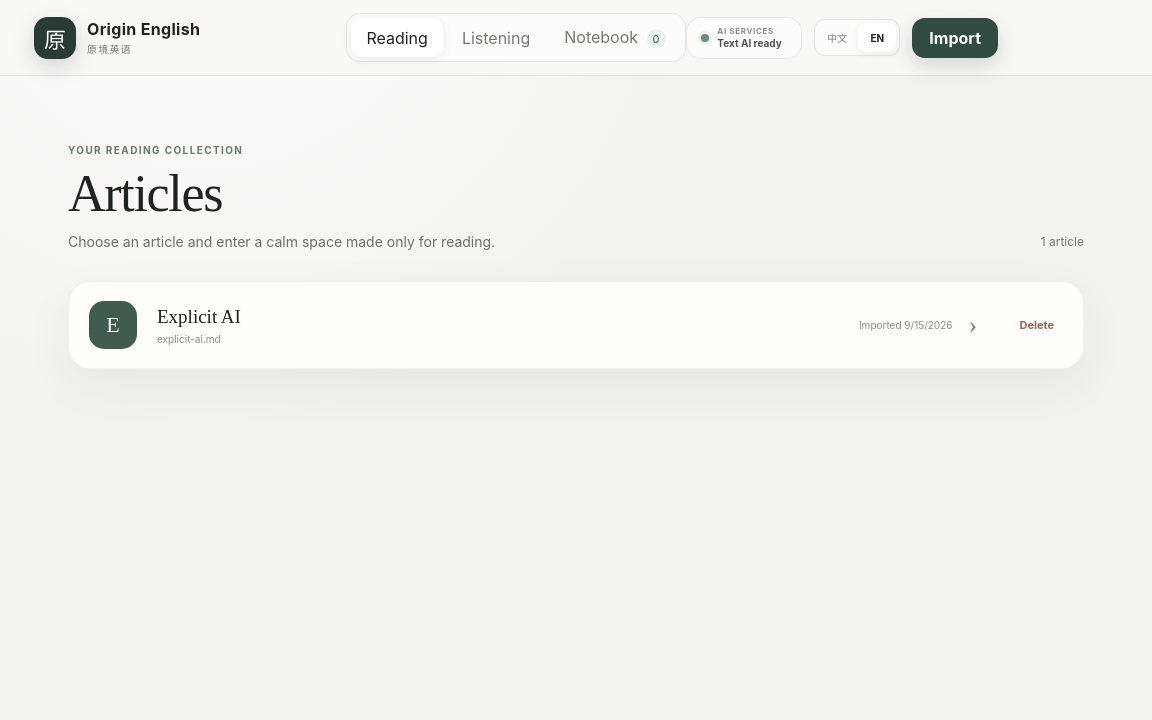
it: explicit AI definition flow in the application › keeps an AI-returned Chinese hint hidden until the learner expands it
The width and height of the screenshot is (1152, 720).
Step 1. Click the button with aria-label "Open article: Explicit AI" → (113, 325), box top-left (69, 282), bottom-right (1000, 368)
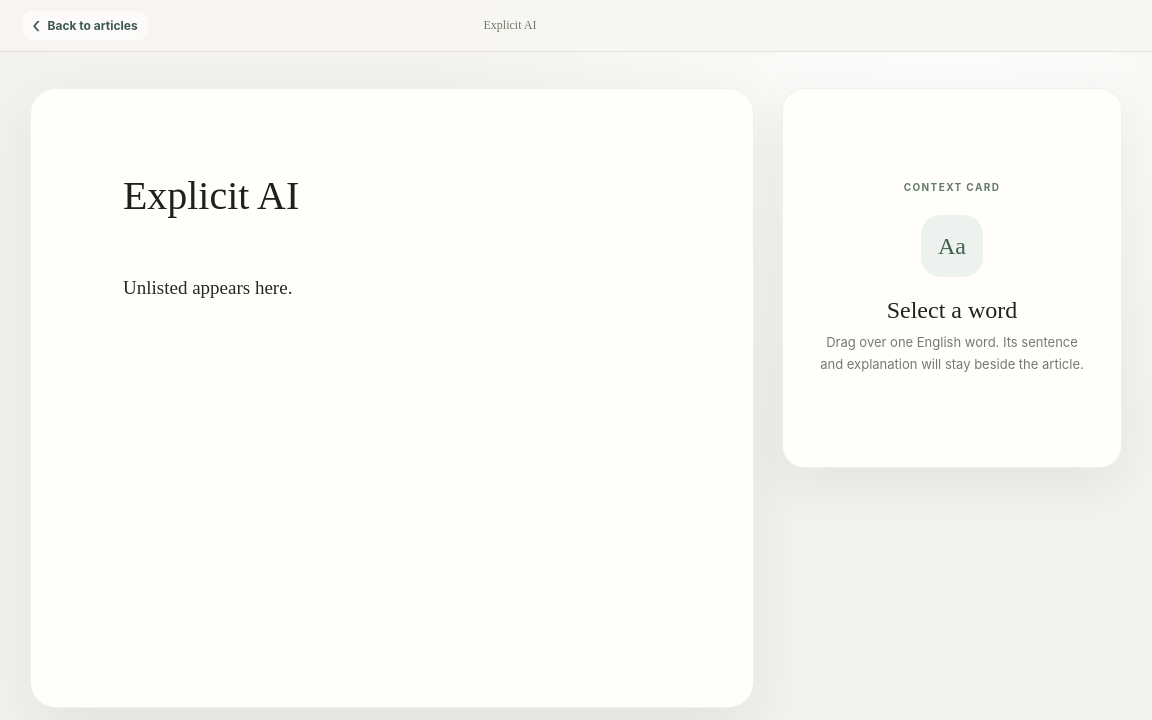
Step 2. Click the text "Unlisted" → (155, 287), box top-left (123, 277), bottom-right (187, 298)
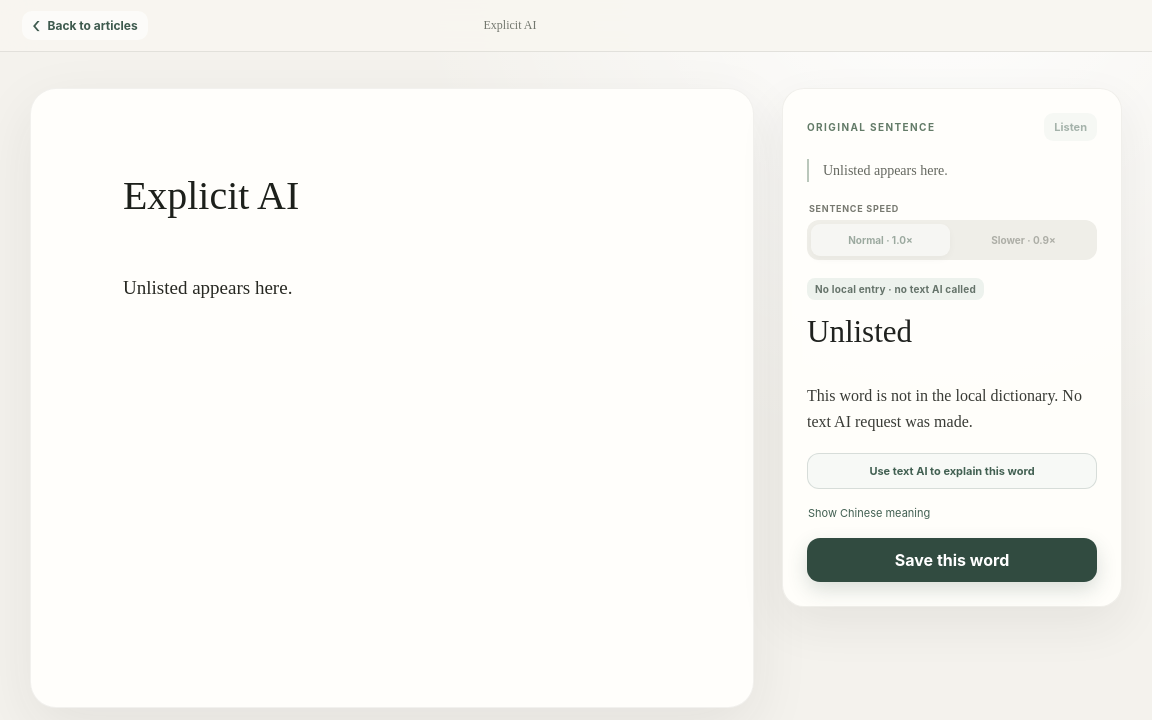
Step 3. Click the button "Use text AI to explain this word" → (952, 471), box top-left (807, 453), bottom-right (1097, 489)
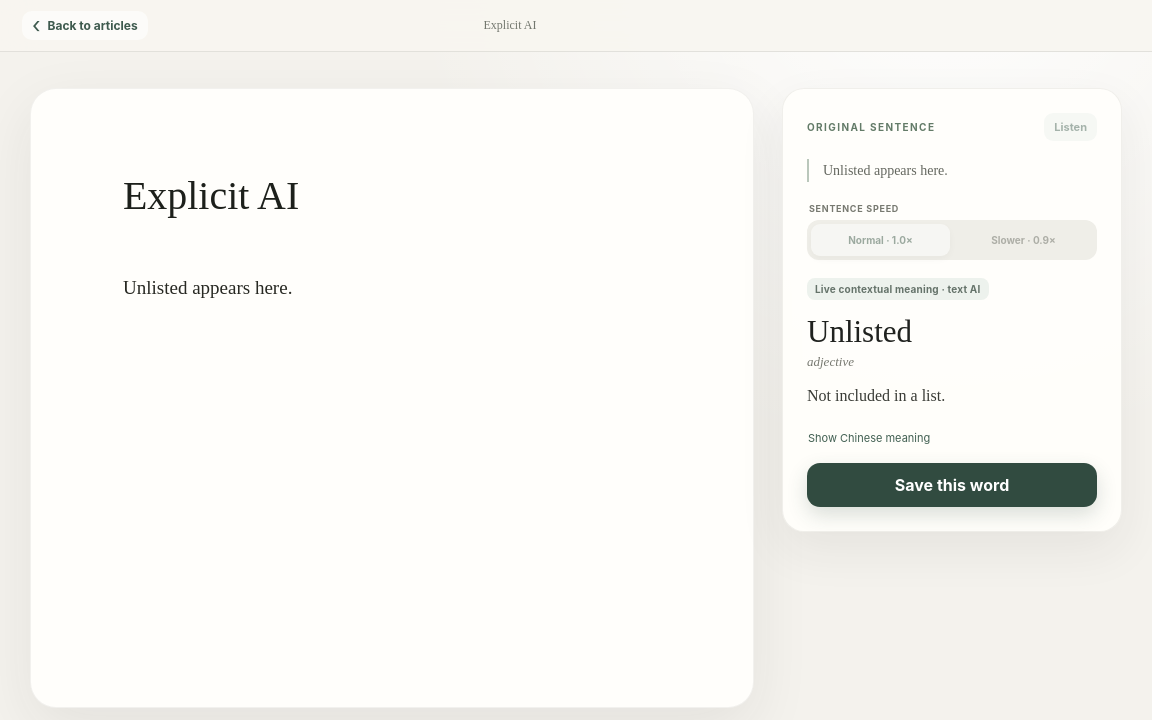
Expected: the text "未列出的" is not shown
Step 4. Click the button "Show Chinese meaning" → (869, 438), box top-left (808, 428), bottom-right (930, 450)
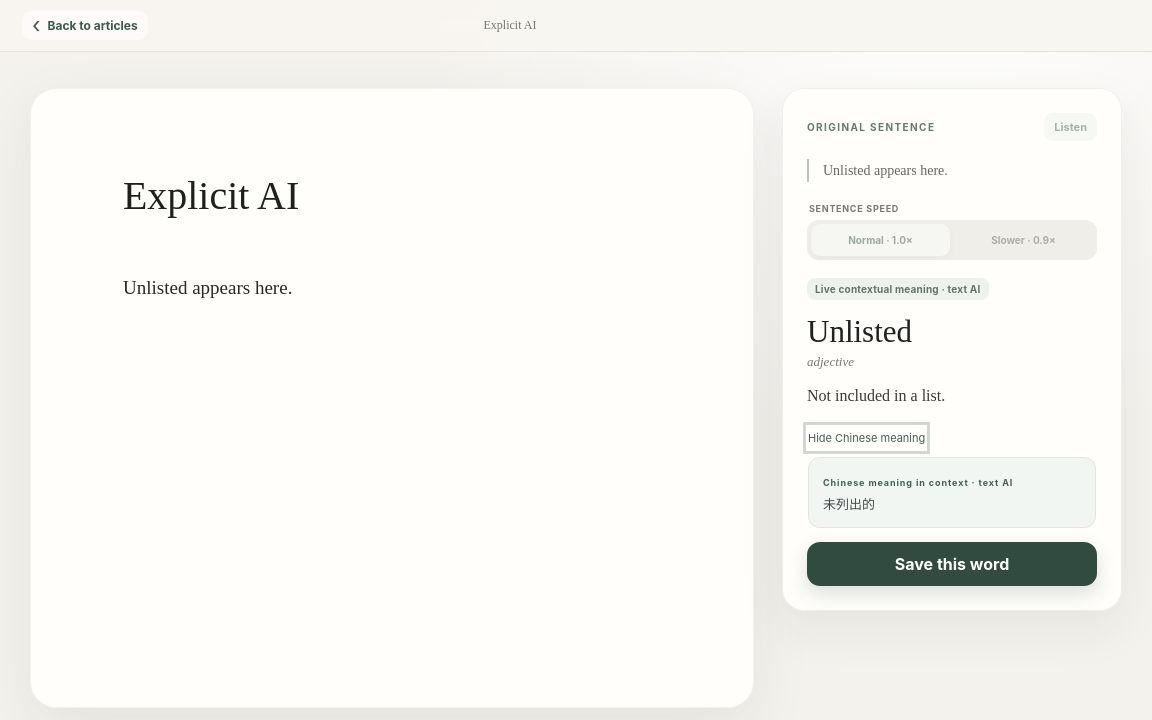
Expected: the text "未列出的" is shown, top-left (823, 496), bottom-right (875, 512)
